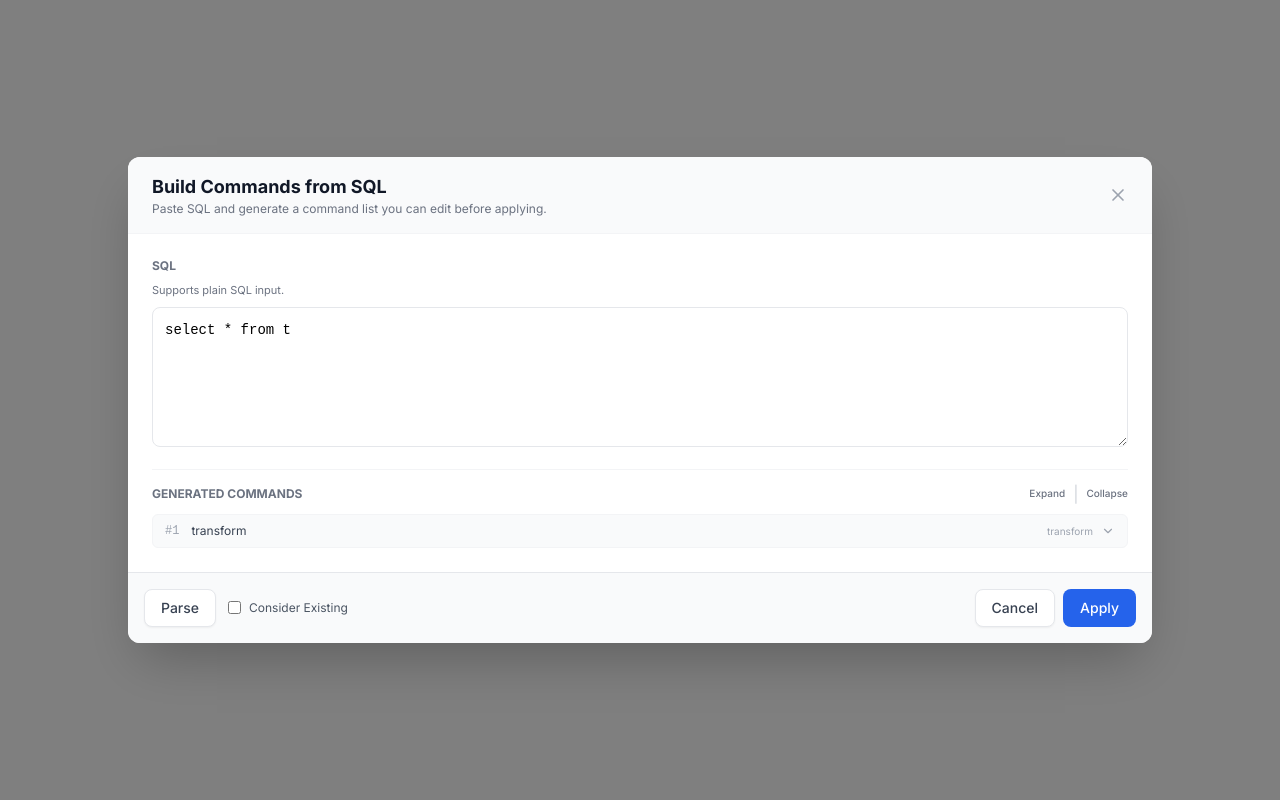
it: SqlBuilderModal editable command sections › renders editable transform section
The width and height of the screenshot is (1280, 800).
Click the button "#1 transform transform": (219, 530) [153,515,1127,547]
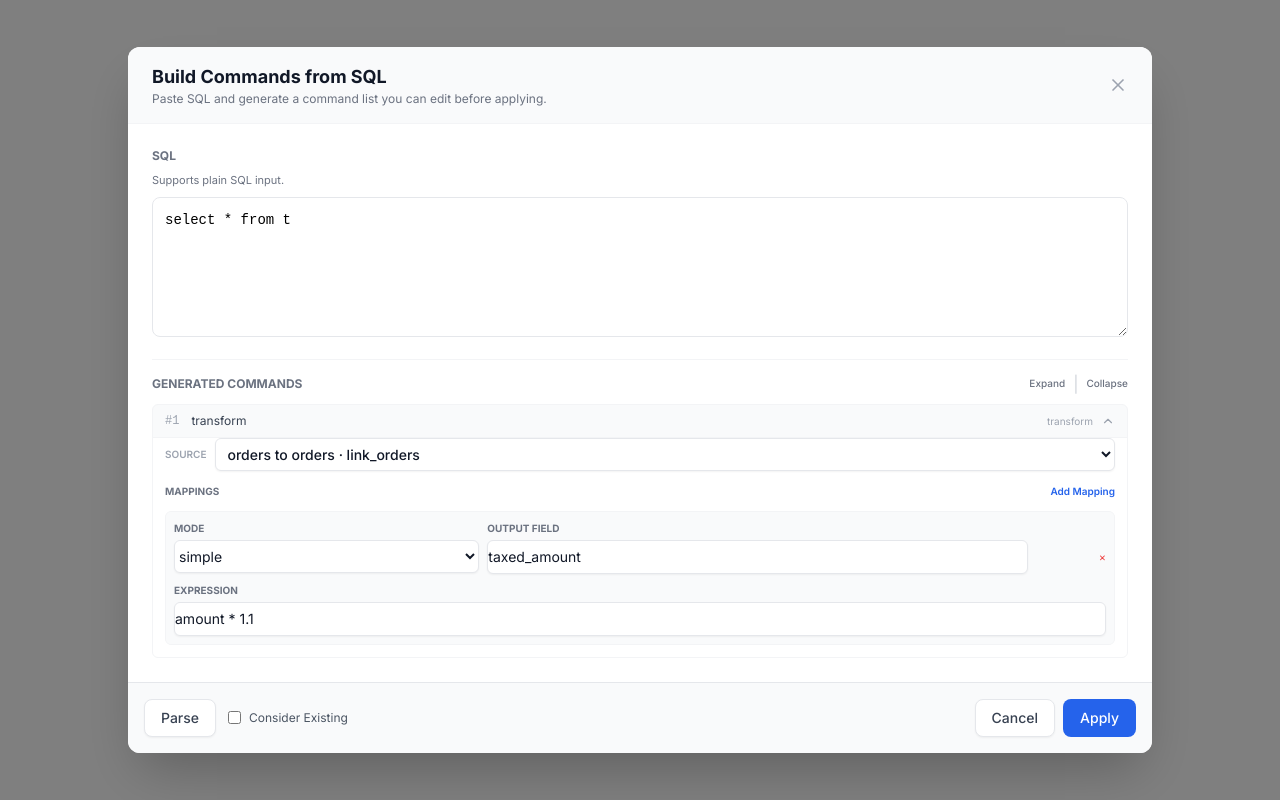
Expected: the text "Mappings" is shown, [165,483,219,499]
Expected: the text "Mode" is shown, [174,522,204,534]
Expected: the text "Expression" is shown, [174,584,238,596]
